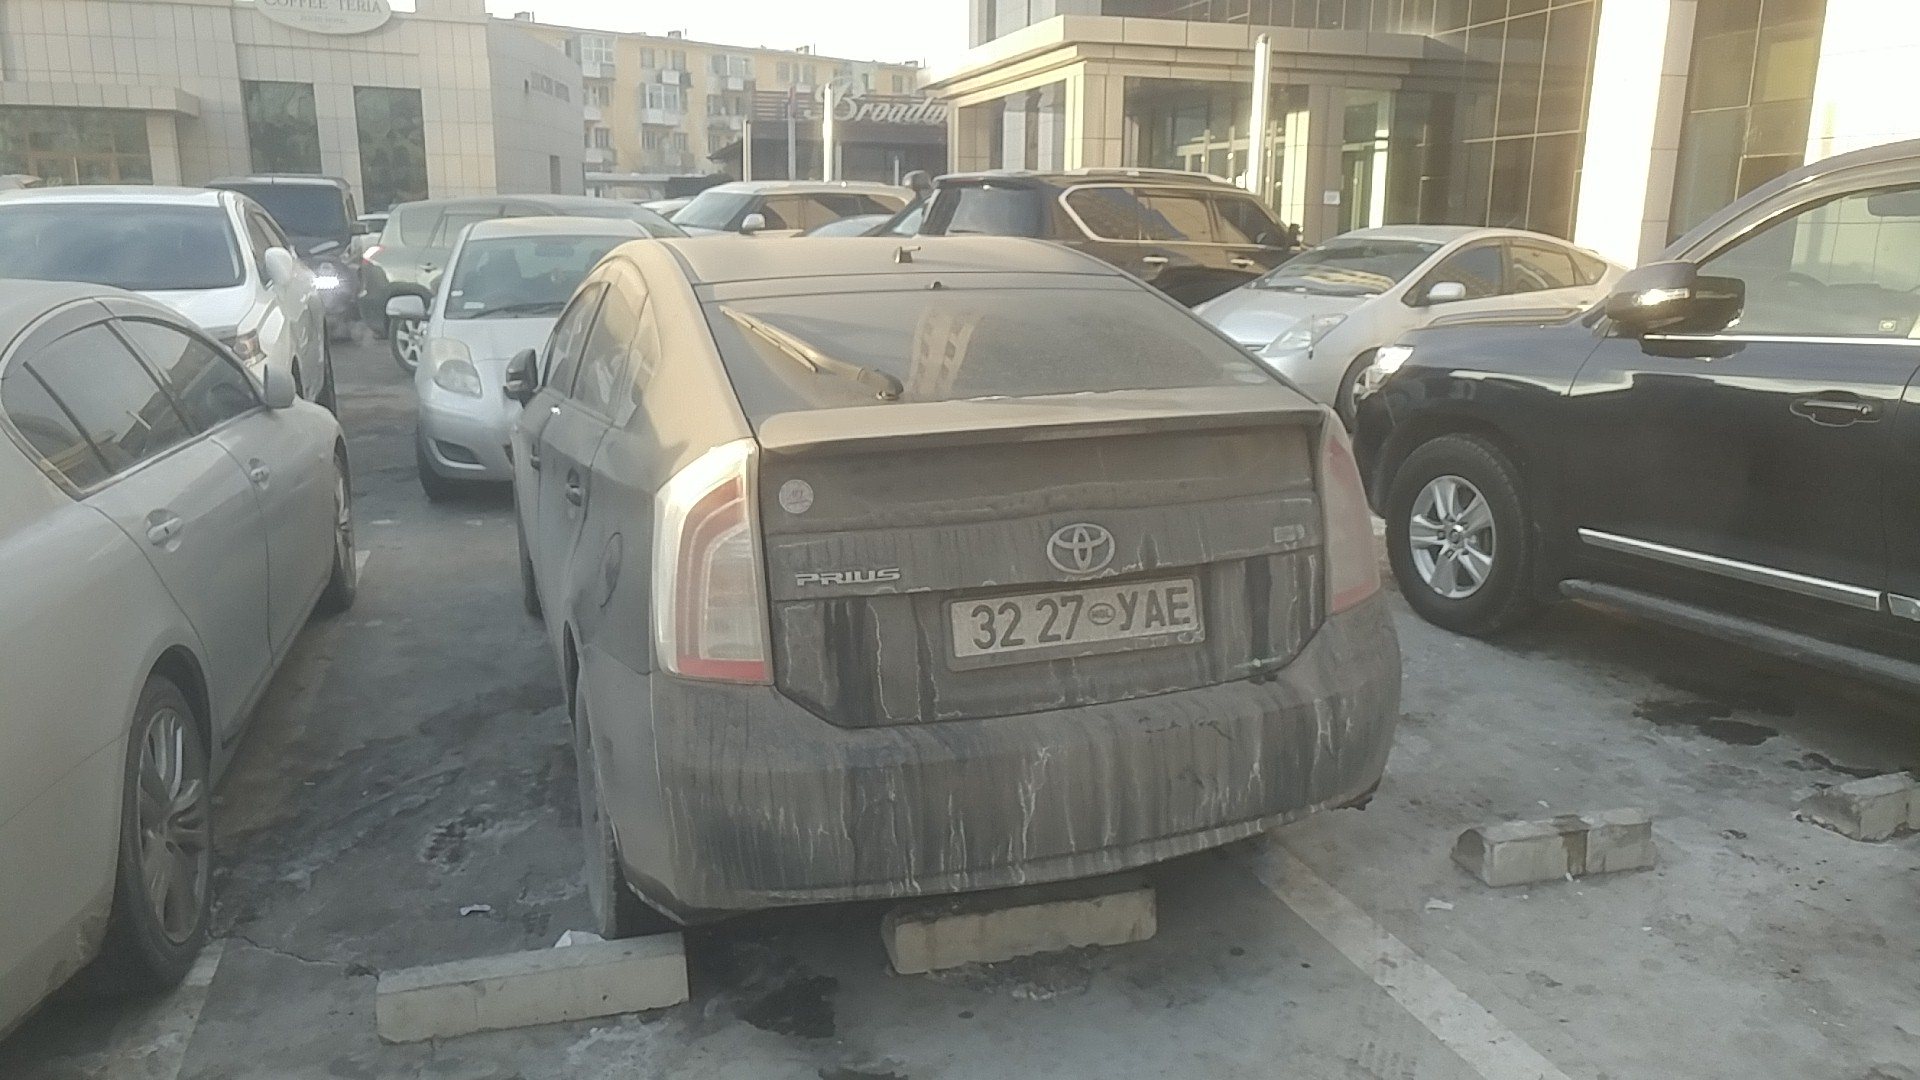2: (996, 600, 1027, 649), (1034, 597, 1064, 644)
3: (971, 603, 998, 650)
7: (1060, 592, 1086, 640)
a: (1142, 587, 1167, 629)
plate: (941, 572, 1207, 671)
u: (1115, 588, 1141, 630)
ye: (1165, 584, 1194, 626)
